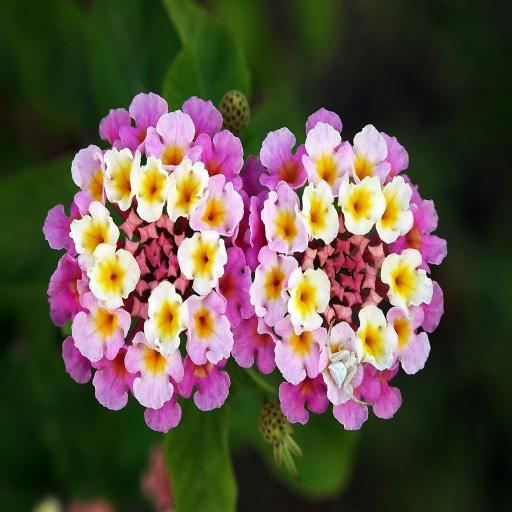Lantana: (38, 84, 254, 432), (246, 104, 458, 446)
